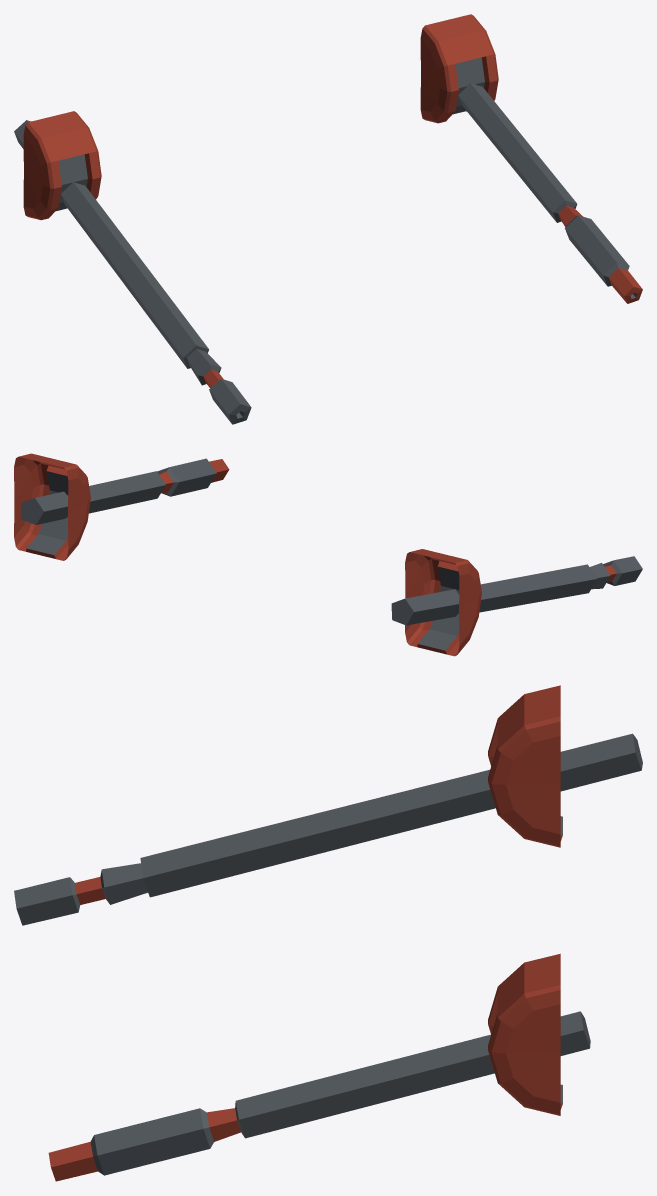
File: Dropship_05_Secondary_Artillery_Red.fbx
3 renders of one model, top to bottom at view 1: azimuth 30°, elevation 25°; view 2: azimuth 150°, elevation 25°; view 3: azimuth 270°, elevation 25°, orthographic. The views are drawn at different scales.
Visible parts, largest first — view 1: Dropship_05_Secondary_Artillery_Red; view 2: Dropship_05_Secondary_Artillery_Red; view 3: Dropship_05_Secondary_Artillery_Red.
Part boxes in pixels (box(x1,y1,x2,y2)): Dropship_05_Secondary_Artillery_Red: box(14, 14, 642, 424); Dropship_05_Secondary_Artillery_Red: box(14, 453, 642, 656); Dropship_05_Secondary_Artillery_Red: box(14, 685, 642, 1181).
Bounding box in the file's own units: 307 × 106 × 267.
1 material, 1 textured.
